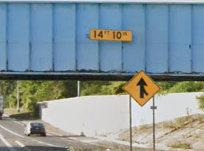0: (115, 30, 122, 41)
1: (92, 29, 96, 39), (111, 30, 115, 40)
4: (96, 29, 104, 40)
overheadsign: (90, 28, 132, 42)
